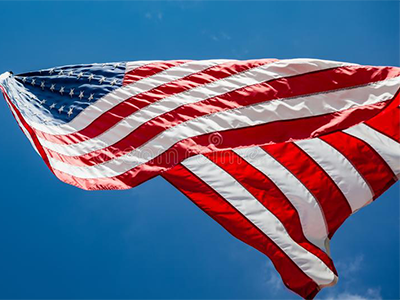America flag: (3, 56, 400, 298)
